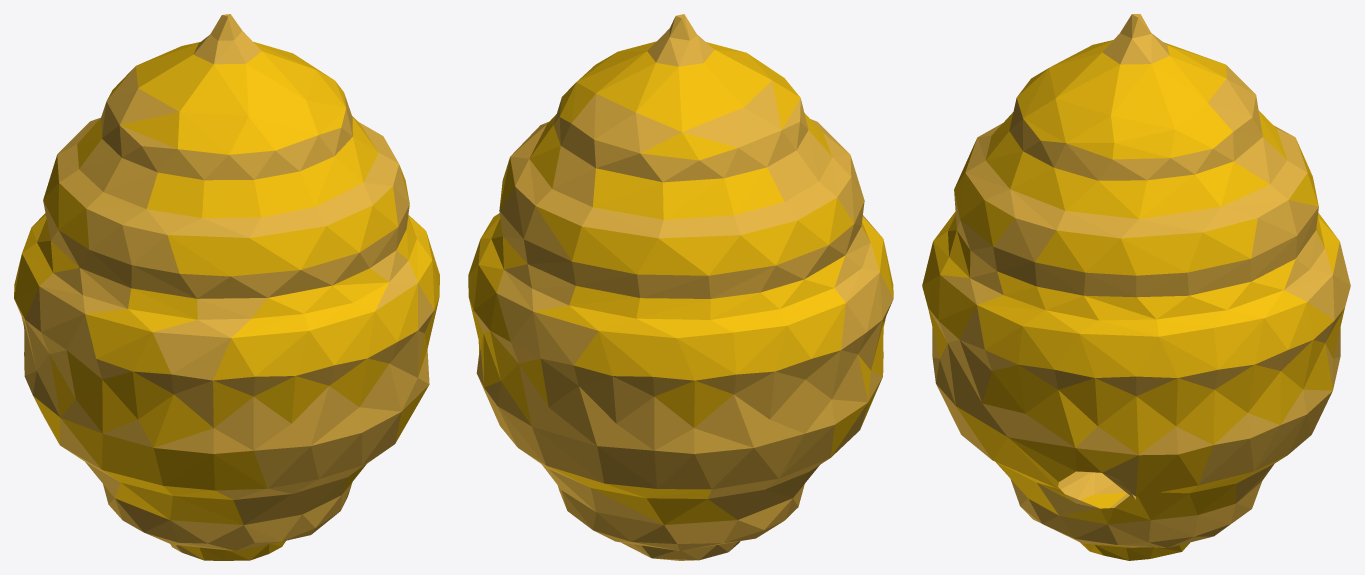
File: Bee.fbx
3 renders of one model, left to right at view 1: azimuth 30°, elevation 25°; view 2: azimuth 150°, elevation 25°; view 3: azimuth 270°, elevation 25°, orthographic.
Visible parts, largest first — view 1: Bee; view 2: Bee; view 3: Bee.
Boxes of the visible parts, x1=… form: Bee: x1=14, y1=14, x2=439, y2=560; Bee: x1=468, y1=14, x2=893, y2=560; Bee: x1=922, y1=14, x2=1350, y2=560.
Bounding box in the file's own units: 104 × 143 × 104.
